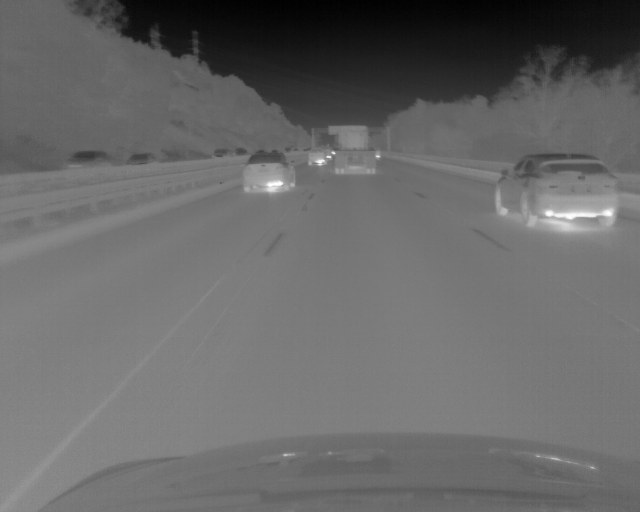car: (494, 153, 616, 230), (242, 153, 295, 192), (336, 126, 376, 175), (61, 150, 110, 169), (124, 153, 155, 164), (308, 147, 326, 165), (211, 148, 229, 158), (326, 148, 332, 161), (376, 149, 381, 159)
